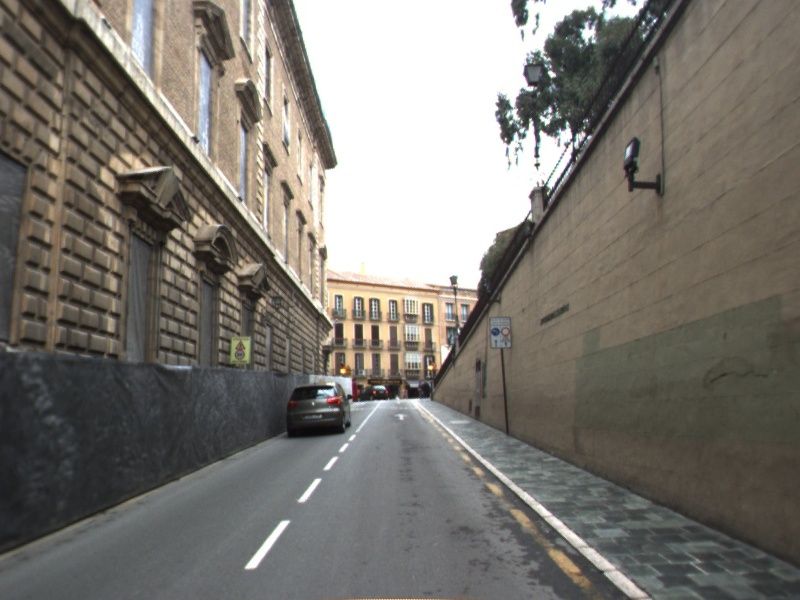STRAIGHT: (392, 412, 410, 422)
